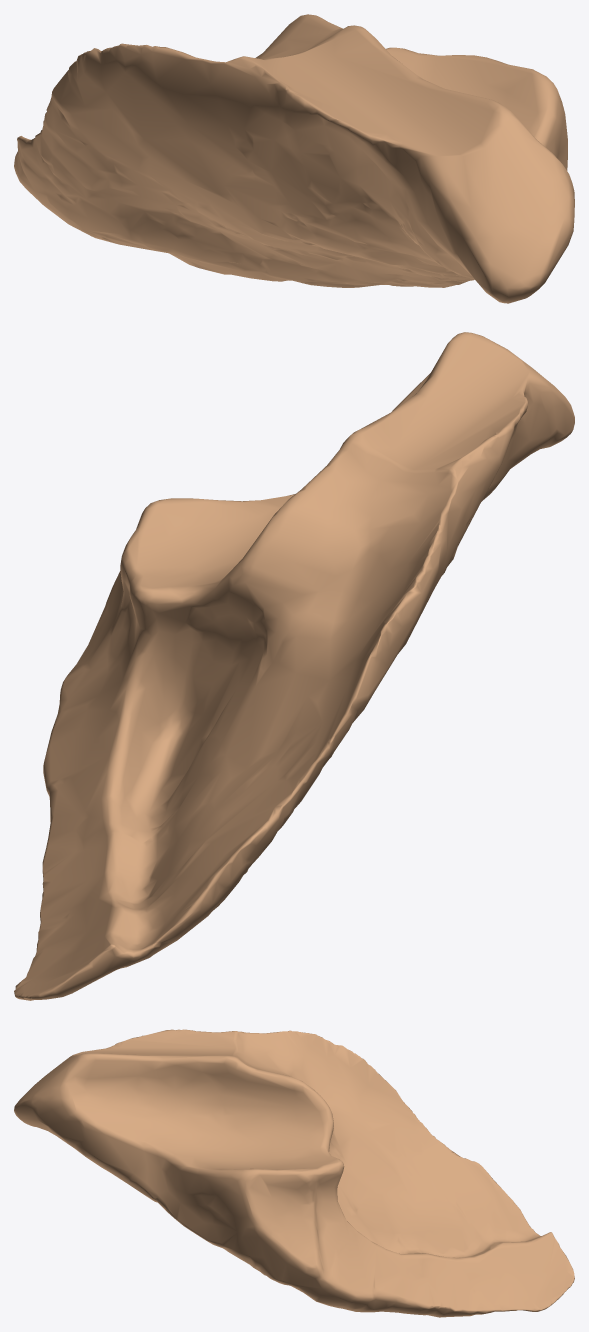
The picture shows the model from 3 angles, top to bottom: view 1: azimuth 30°, elevation 25°; view 2: azimuth 150°, elevation 25°; view 3: azimuth 270°, elevation 25°; orthographic projection. The views are drawn at different scales.
Visible parts, largest first — view 1: 胸腺右叶; view 2: 胸腺右叶; view 3: 胸腺右叶.
Boxes of the visible parts, x1,y1,x2,y2 form: 胸腺右叶: (14,14,574,303); 胸腺右叶: (14,332,574,1000); 胸腺右叶: (14,1029,574,1317).
Size of the model in its own units: 0.0347 by 0.0358 by 0.0758.
